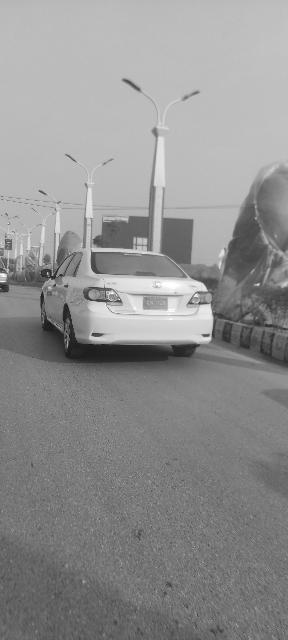Number: (147, 300, 165, 306)
